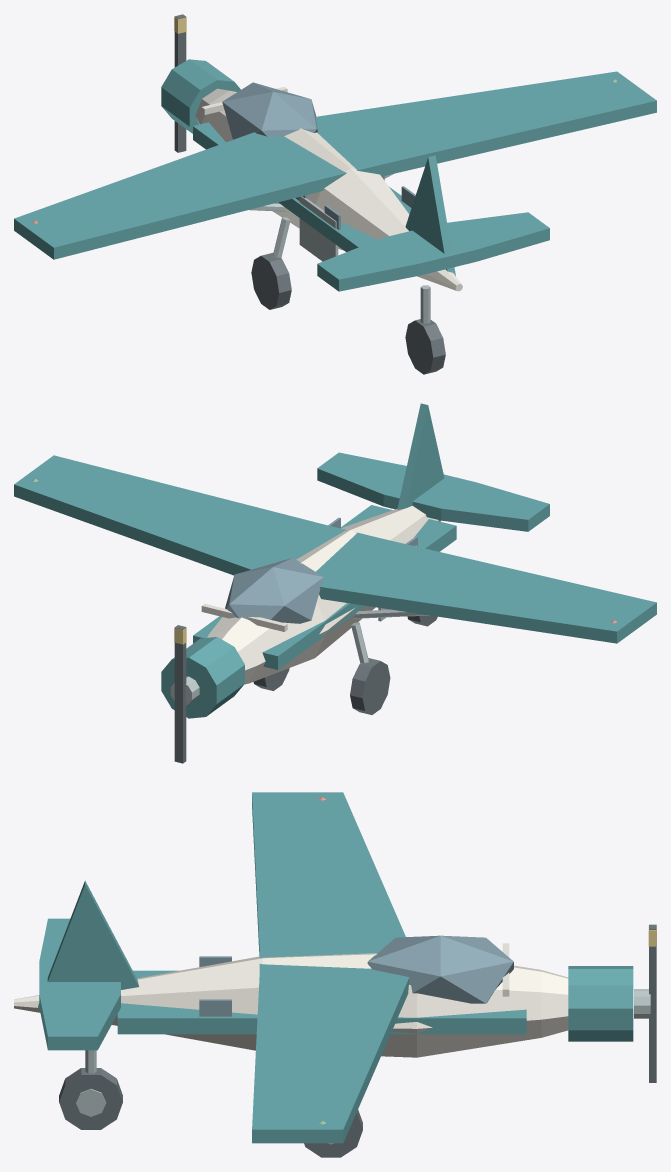
Rendered from courier_starter.glb.
3 views of the same model, one above another, from view 1: azimuth 30°, elevation 25°; view 2: azimuth 150°, elevation 25°; view 3: azimuth 270°, elevation 25° (orthographic). The views are drawn at different scales.
Parts seen in each view (by area): view 1: courier_starter__main_wings, courier_starter__tailplane, courier_starter__faceted_fuselage, courier_starter__cockpit_canopy, courier_starter__engine_nose, courier_starter__vertical_tail, courier_starter__signature_stripe, courier_starter__wheel, courier_starter__wheel.002, courier_starter__cargo_door, courier_starter__Propeller_blades; view 2: courier_starter__main_wings, courier_starter__tailplane, courier_starter__faceted_fuselage, courier_starter__cockpit_canopy, courier_starter__engine_nose, courier_starter__signature_stripe, courier_starter__vertical_tail, courier_starter__wheel, courier_starter__Propeller_blades, courier_starter__windshield_frame; view 3: courier_starter__main_wings, courier_starter__faceted_fuselage, courier_starter__cockpit_canopy, courier_starter__signature_stripe, courier_starter__tailplane, courier_starter__engine_nose, courier_starter__vertical_tail, courier_starter__wheel.002, courier_starter__Propeller_blades, courier_starter__wheel.001, courier_starter__wheel_hub.002, courier_starter__cabin_window.001.
Part boxes in pixels (x1,y1,x2,y2): courier_starter__main_wings: [14, 71, 656, 259]; courier_starter__tailplane: [317, 212, 549, 291]; courier_starter__faceted_fuselage: [195, 88, 462, 291]; courier_starter__cockpit_canopy: [222, 82, 317, 139]; courier_starter__engine_nose: [161, 59, 240, 133]; courier_starter__vertical_tail: [405, 155, 455, 275]; courier_starter__signature_stripe: [193, 122, 411, 251]; courier_starter__wheel: [251, 253, 291, 309]; courier_starter__wheel.002: [405, 319, 445, 374]; courier_starter__cargo_door: [299, 196, 338, 261]; courier_starter__Propeller_blades: [174, 14, 186, 152]; courier_starter__main_wings: [14, 455, 656, 643]; courier_starter__tailplane: [317, 452, 549, 531]; courier_starter__faceted_fuselage: [207, 506, 440, 684]; courier_starter__cockpit_canopy: [225, 557, 323, 623]; courier_starter__engine_nose: [161, 637, 244, 718]; courier_starter__signature_stripe: [193, 505, 456, 669]; courier_starter__vertical_tail: [397, 403, 444, 509]; courier_starter__wheel: [350, 658, 390, 714]; courier_starter__Propeller_blades: [174, 625, 186, 763]; courier_starter__windshield_frame: [201, 603, 287, 631]; courier_starter__main_wings: [252, 792, 409, 1143]; courier_starter__faceted_fuselage: [14, 953, 568, 1057]; courier_starter__cockpit_canopy: [367, 935, 513, 1003]; courier_starter__signature_stripe: [117, 970, 526, 1034]; courier_starter__tailplane: [39, 918, 120, 1050]; courier_starter__engine_nose: [568, 966, 633, 1041]; courier_starter__vertical_tail: [38, 880, 138, 1007]; courier_starter__wheel.002: [59, 1068, 122, 1129]; courier_starter__Propeller_blades: [649, 924, 656, 1082]; courier_starter__wheel.001: [304, 1109, 362, 1157]; courier_starter__wheel_hub.002: [76, 1089, 106, 1116]; courier_starter__cabin_window.001: [199, 999, 231, 1016].
Bounding box in the file's own units: 10.5 × 3.57 × 8.46.
